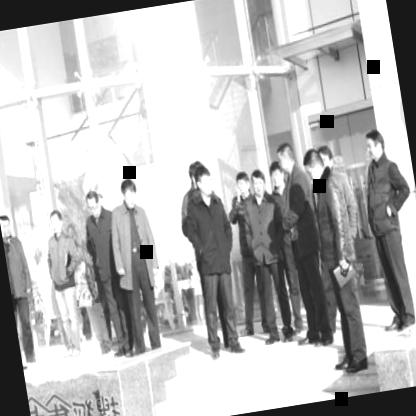head: (358, 122, 390, 167), (114, 174, 144, 216), (302, 142, 330, 184), (43, 204, 69, 241), (275, 139, 299, 179), (246, 162, 270, 202), (82, 186, 106, 223), (193, 164, 216, 201), (266, 157, 288, 190), (232, 168, 252, 204), (318, 142, 336, 172), (0, 212, 17, 242), (0, 208, 7, 240)
